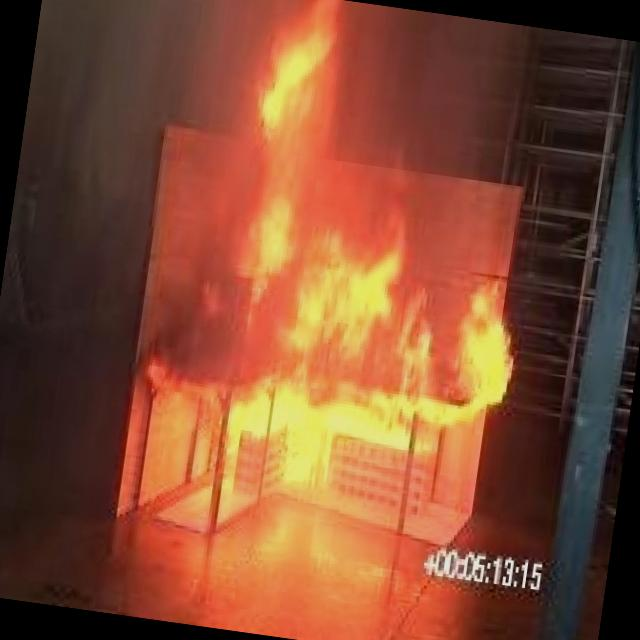fire: (106, 0, 573, 562)
